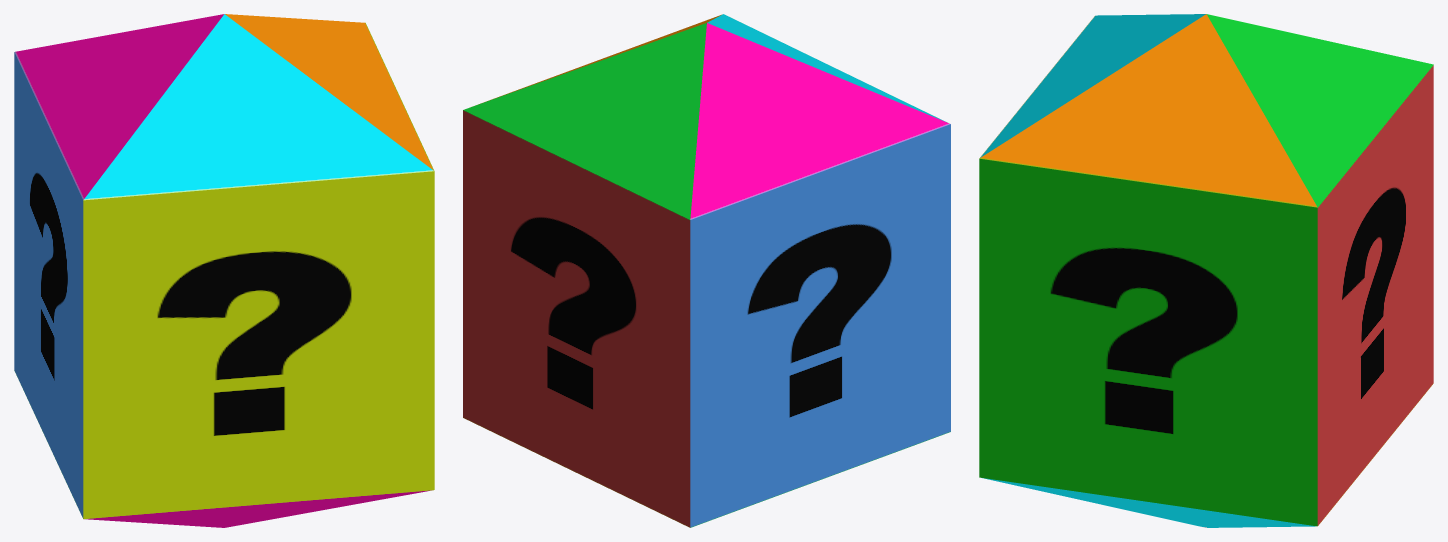
Rendered from PowerUp.fbx.
The picture shows the model from 3 angles, left to right: view 1: azimuth 30°, elevation 25°; view 2: azimuth 150°, elevation 25°; view 3: azimuth 270°, elevation 25°; orthographic projection. The views are drawn at different scales.
Parts seen in each view (by area): view 1: pCube1; view 2: pCube1; view 3: pCube1.
Part boxes in pixels (x1,y1,x2,y2): pCube1: (14,14,434,527); pCube1: (463,14,950,527); pCube1: (979,14,1433,527).
Bounding box in the file's own units: 1.55 × 1.93 × 1.55.
1 material, 1 textured.
